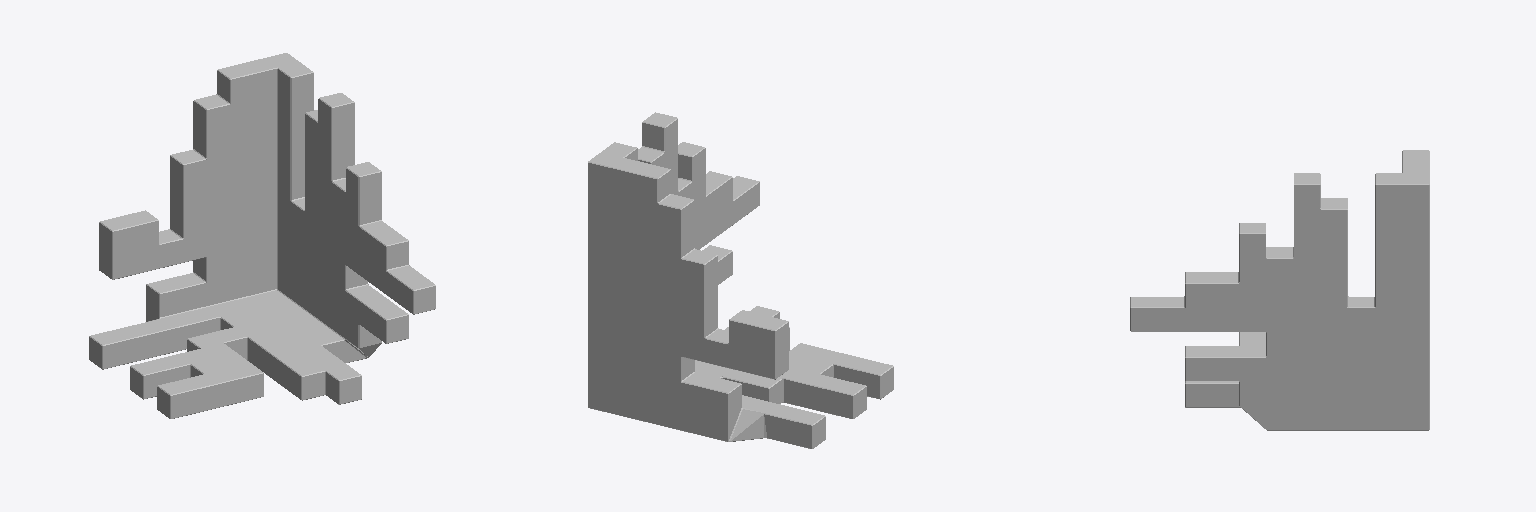
File: PuzzleCube6.obj
3 renders of one model, left to right at view 1: azimuth 30°, elevation 25°; view 2: azimuth 150°, elevation 25°; view 3: azimuth 270°, elevation 25°, orthographic.
Visible parts, largest first — view 1: Cube.008_Cube.011; view 2: Cube.008_Cube.011; view 3: Cube.008_Cube.011.
Boxes of the visible parts, box(x1,y1,x2,y2) form: Cube.008_Cube.011: box(89, 53, 435, 418); Cube.008_Cube.011: box(588, 112, 893, 448); Cube.008_Cube.011: box(1130, 150, 1429, 430).
Size of the model in its own units: 4.5 by 5 by 5.5.